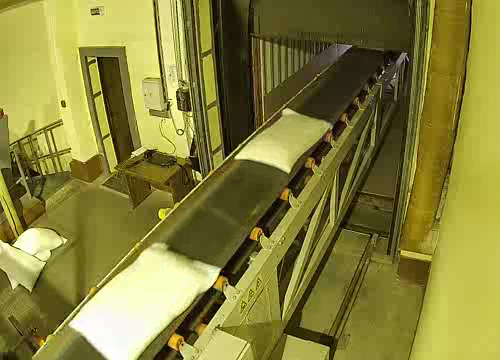bag: (65, 242, 227, 360), (230, 104, 337, 179), (356, 45, 386, 52)
